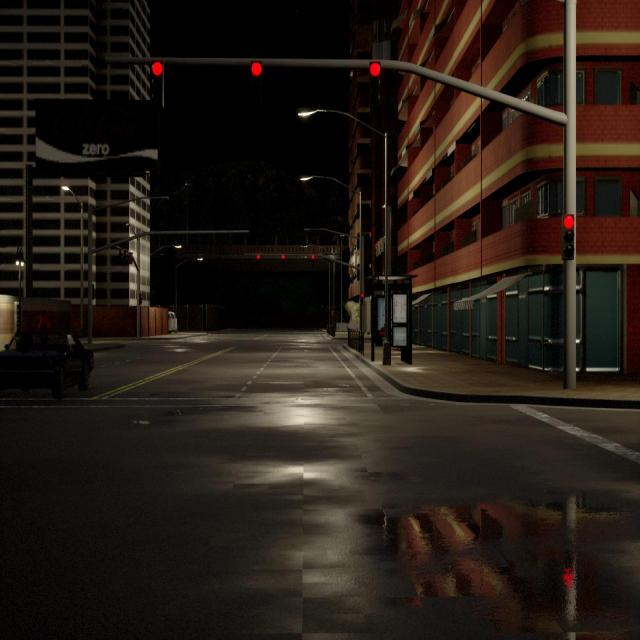Pedestrian: (39, 309, 50, 330)
Vehicle: (0, 331, 94, 395), (168, 311, 177, 333)
traffic_light: (560, 211, 579, 262), (151, 60, 163, 109), (251, 60, 262, 105), (370, 61, 380, 109), (120, 248, 124, 264), (124, 250, 128, 265), (139, 293, 143, 305), (129, 252, 132, 264), (256, 254, 260, 261), (281, 255, 285, 260), (311, 255, 315, 260), (361, 294, 363, 304)
